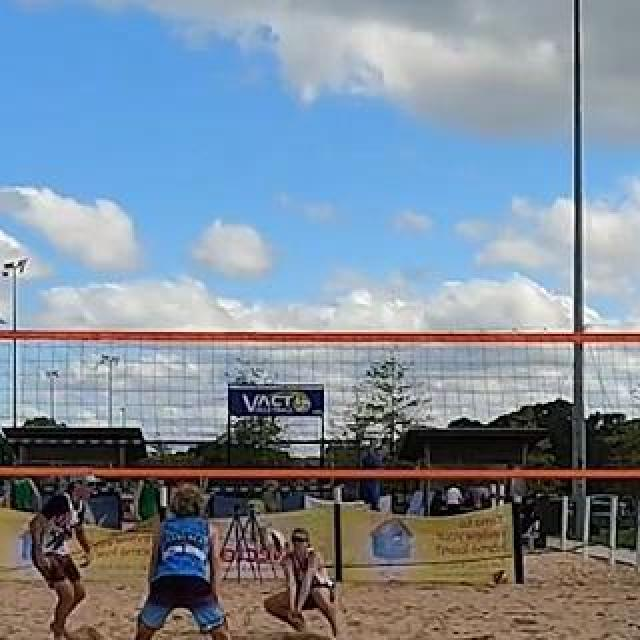volleyball: (261, 529, 285, 555), (493, 569, 509, 585)
